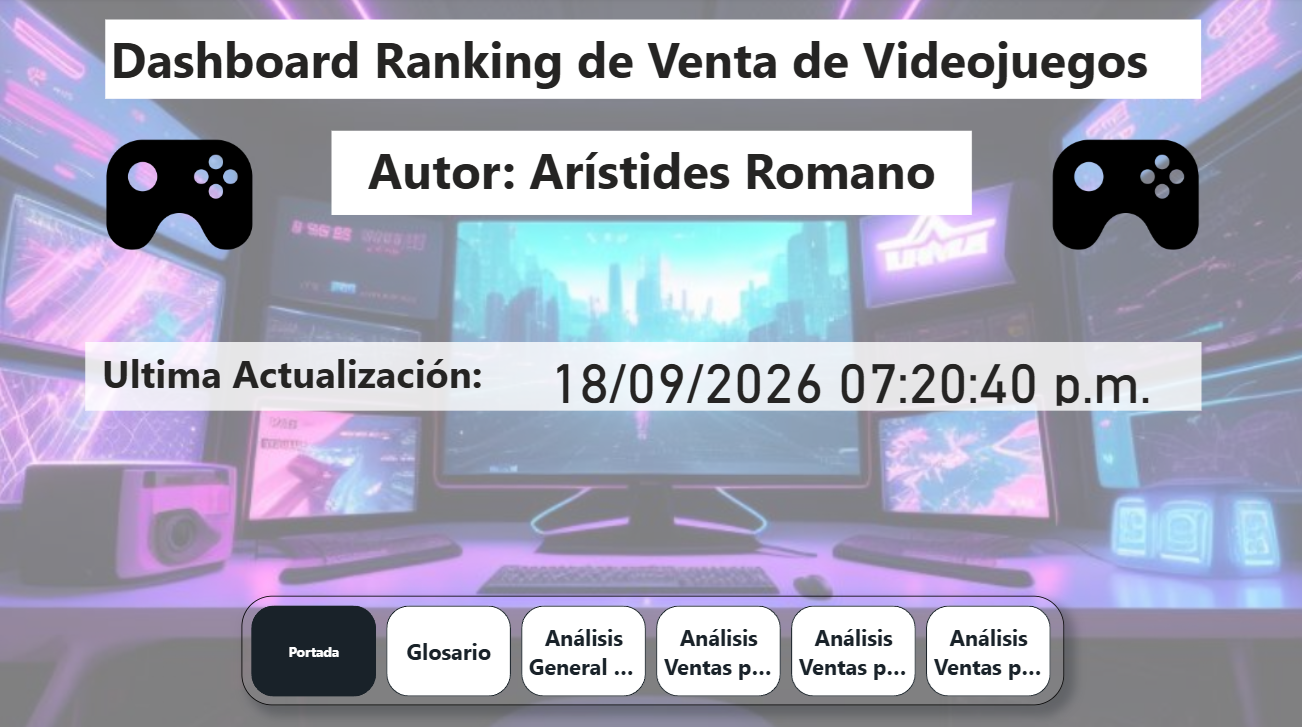

The dashboard page shown, as its layout file describes it:
{"tool":"powerbi","page":{"name":"Portada","canvas":[1280,720],"ordinal":0},"visuals":[{"type":"textbox","box":[104.1,21.8,1071.7,77.3],"z":0},{"type":"textbox","box":[325.9,131,626.6,82.3],"z":1000},{"type":"pageNavigator","box":[236.9,586.2,804.6,107.5],"z":2000},{"type":"image","box":[952.4,99.1,299,181.4],"z":3000},{"type":"image","box":[26.9,99.1,299,181.4],"z":4000},{"type":"card","fields":{"Values":["Z_Medidas.Ultima_Actualizacion"]},"box":[488.8,337.6,687,67.2],"z":5000},{"type":"textbox","box":[84,337.6,404.8,67.2],"z":6000}]}

Visuals, with their boxes in screenshot pixels (x1, y1, x2, y2), scaled from the page's 1280x720 canvas onto the 1302x727 screenshot:
textbox: 106/22/1196/100
textbox: 332/132/969/215
pageNavigator: 241/592/1059/700
image: 969/100/1273/283
image: 27/100/332/283
card - Z_Medidas.Ultima_Actualizacion: 497/341/1196/409
textbox: 85/341/497/409
